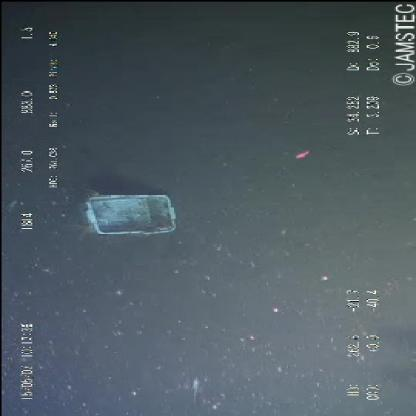Rác: (77, 188, 183, 242)
